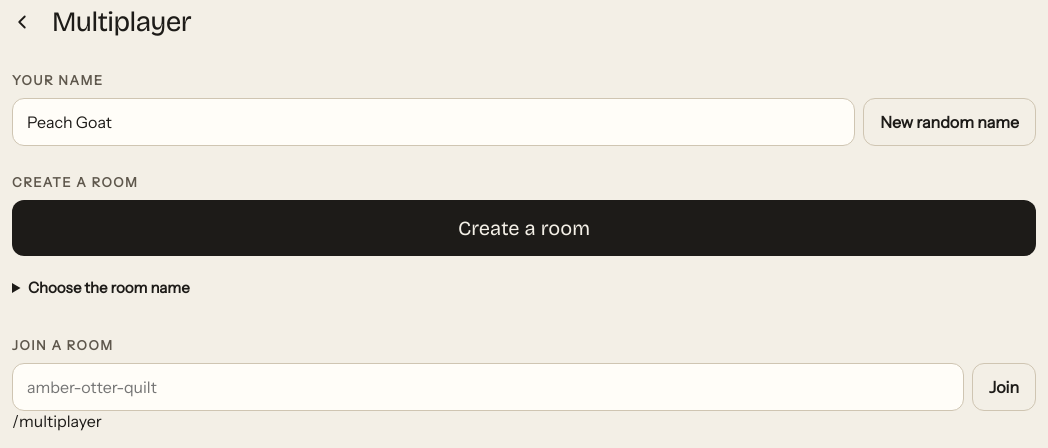
Scenario: the Multiplayer screen › remembers the player’s name and draws a random one on request
The width and height of the screenshot is (1048, 448).
Replace the text in the field labelled "Your name" with "Jo" at (434, 122), box x1=12 y1=98 x2=855 y2=146
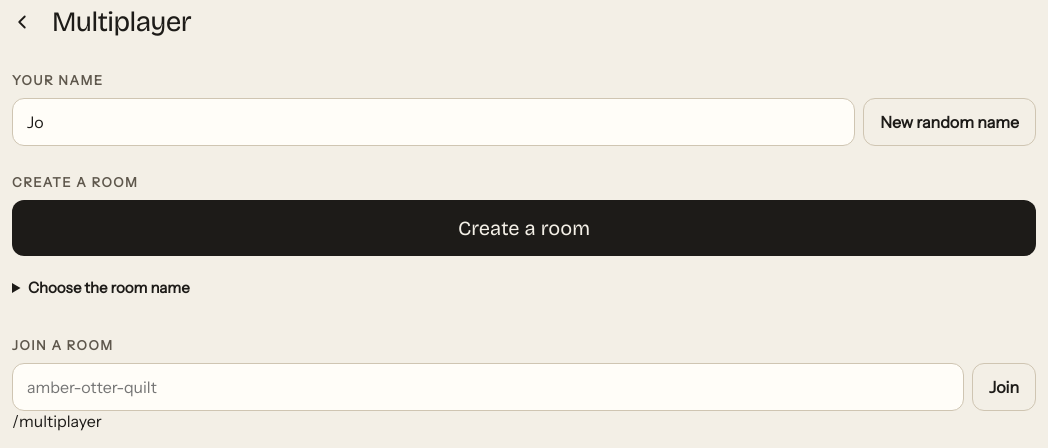
Click the button "New random name" at (950, 122), box x1=863 y1=98 x2=1036 y2=146
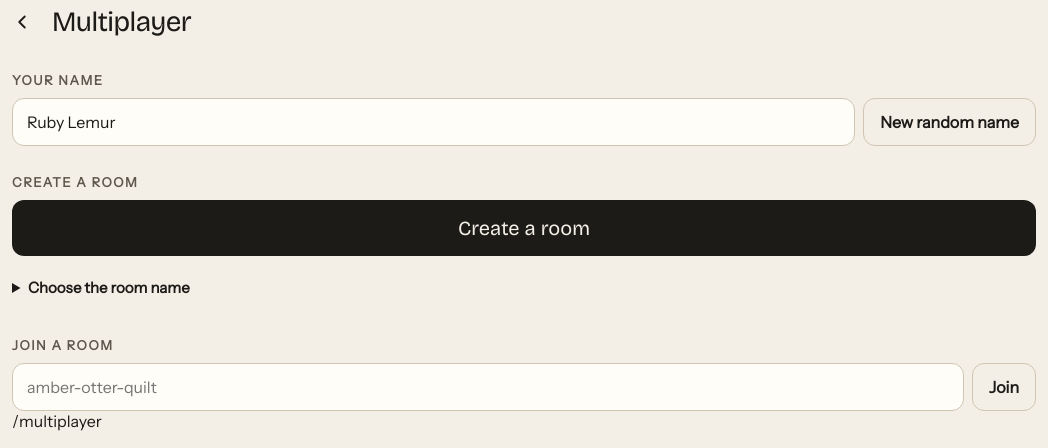
Now the field labelled "Your name" does not hold "Jo", box x1=12 y1=98 x2=855 y2=146
